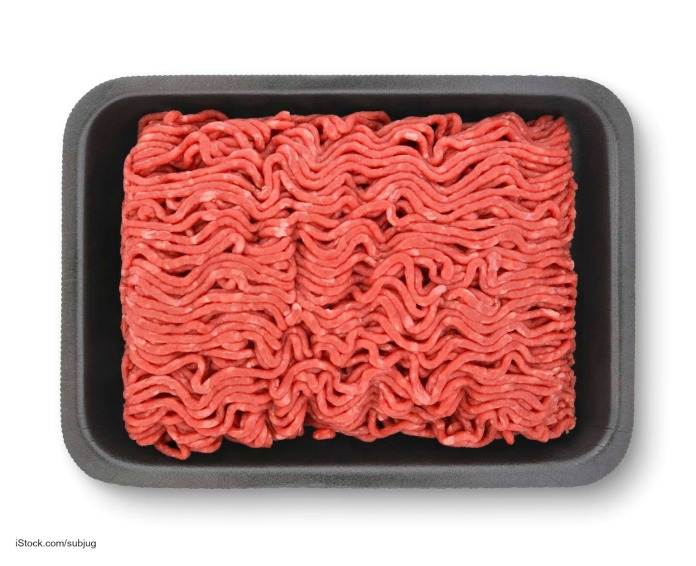ground_beef: (105, 101, 595, 462)
